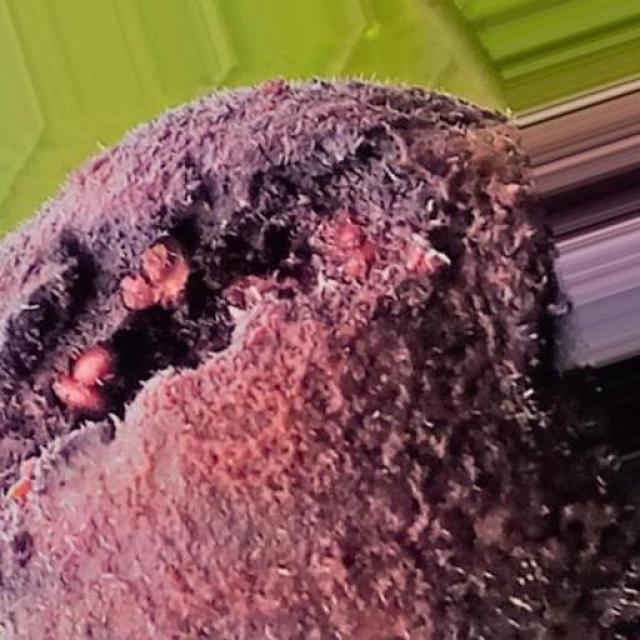Phytopthora: (0, 82, 625, 640)
